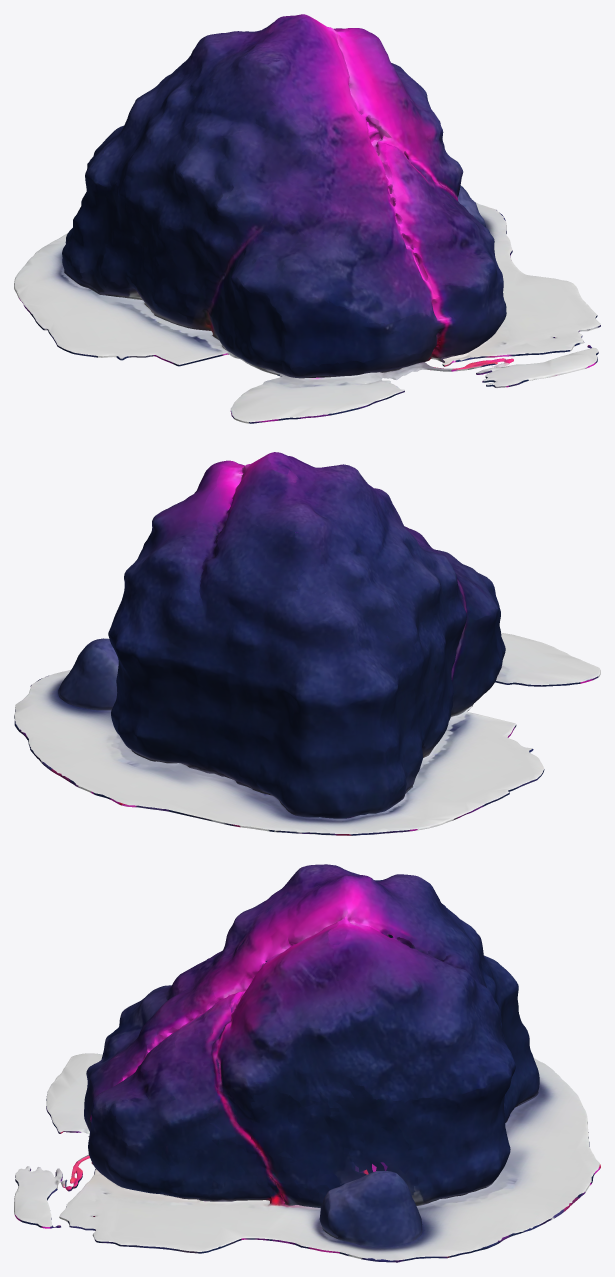
File: shore-stone-8-generated-2026-05-17T20-13-33-277Z.high.glb
3 renders of one model, top to bottom at view 1: azimuth 30°, elevation 25°; view 2: azimuth 150°, elevation 25°; view 3: azimuth 270°, elevation 25°, orthographic. The views are drawn at different scales.
Visible parts, largest first — view 1: temp_mesh.ply; view 2: temp_mesh.ply; view 3: temp_mesh.ply.
Boxes of the visible parts, x1,y1,x2,y2 form: temp_mesh.ply: (14,14,600,423); temp_mesh.ply: (14,452,600,835); temp_mesh.ply: (14,864,600,1262).
Size of the model in its own units: 1.89 by 1.02 by 1.97.
Materials: 1 (1 with a texture image).
